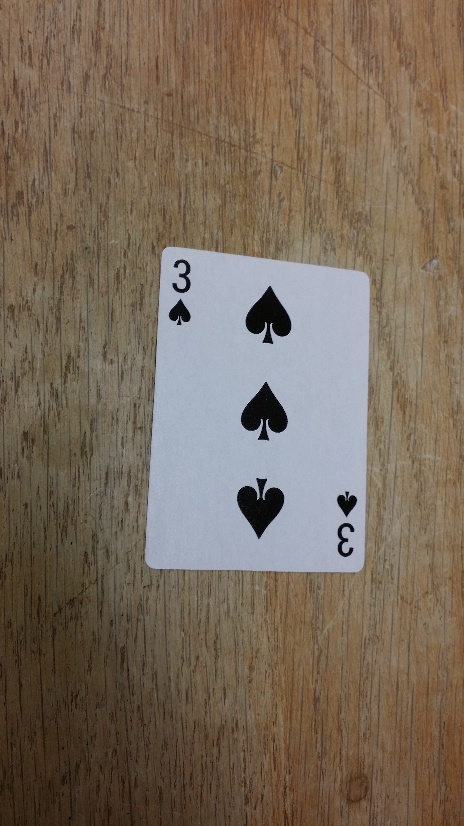S3: (165, 253, 198, 330), (327, 486, 360, 561)
